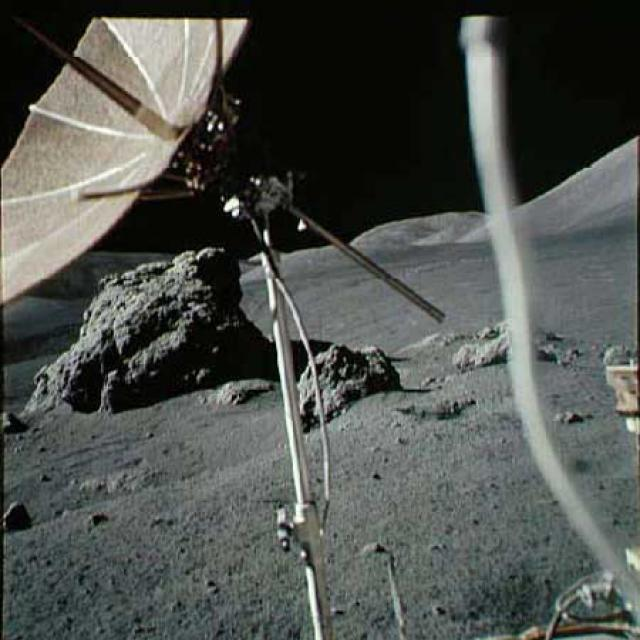artifact: (0, 1, 453, 639)
crater: (0, 426, 296, 530), (576, 449, 636, 483)
rock: (452, 4, 639, 639), (24, 245, 280, 416), (285, 337, 394, 424), (446, 305, 564, 373), (208, 367, 278, 414), (0, 498, 33, 528)
